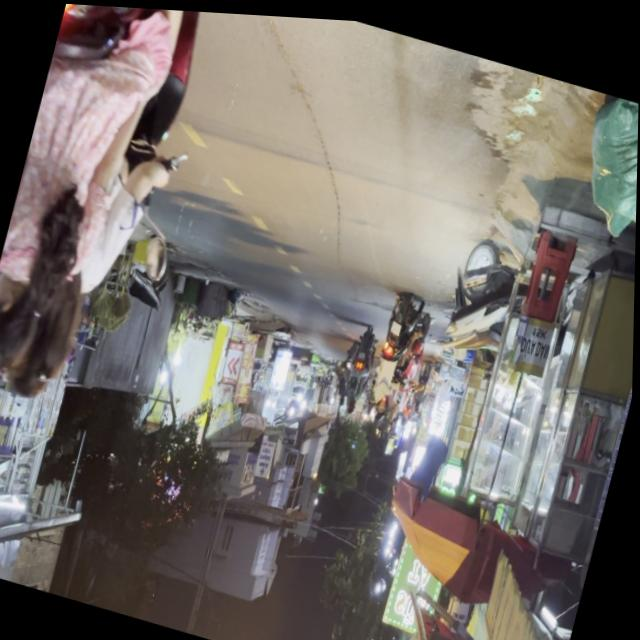licenseplate: (0, 0, 226, 435)
motorcyclist: (0, 270, 87, 410), (0, 232, 61, 380)
